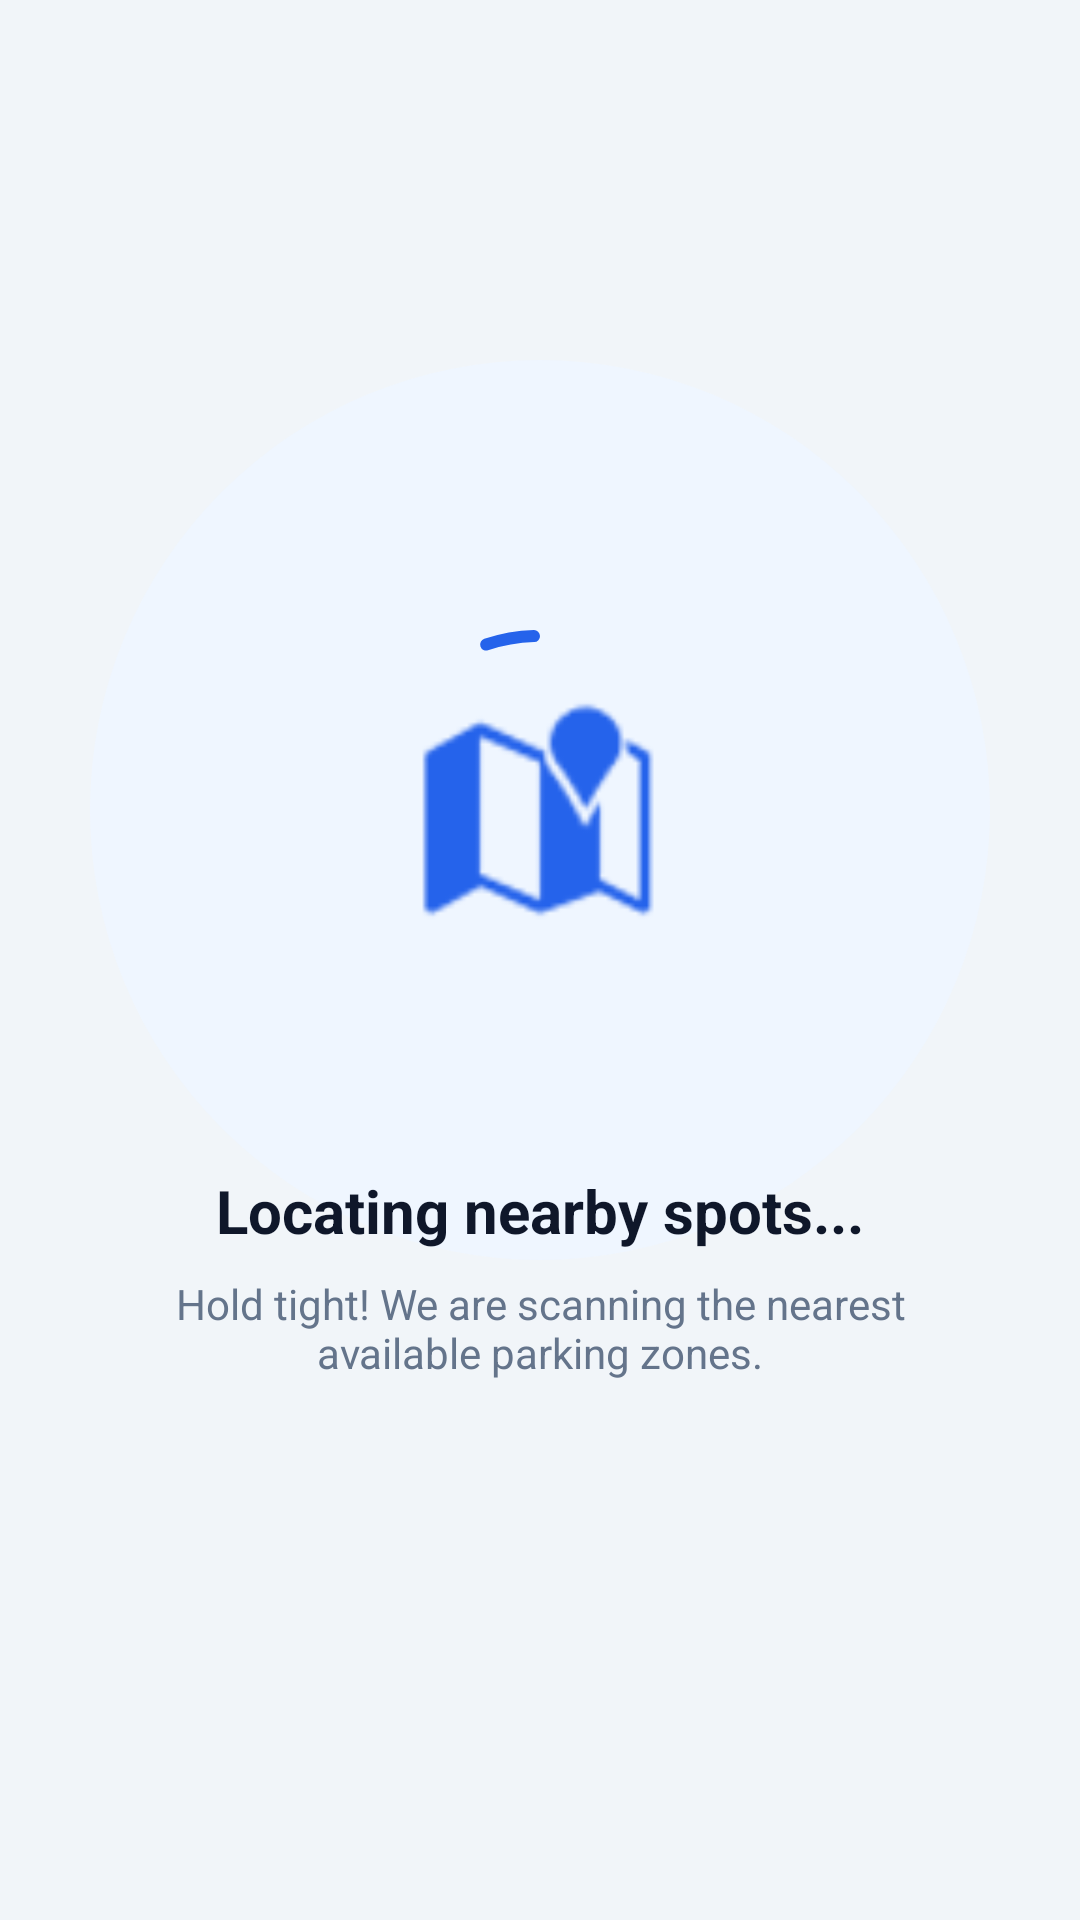

Locate icon controls on the screen. Image size 1080px×1920px, boxes as (x1, y1, x2, y2).
map: (423, 704, 653, 916)
